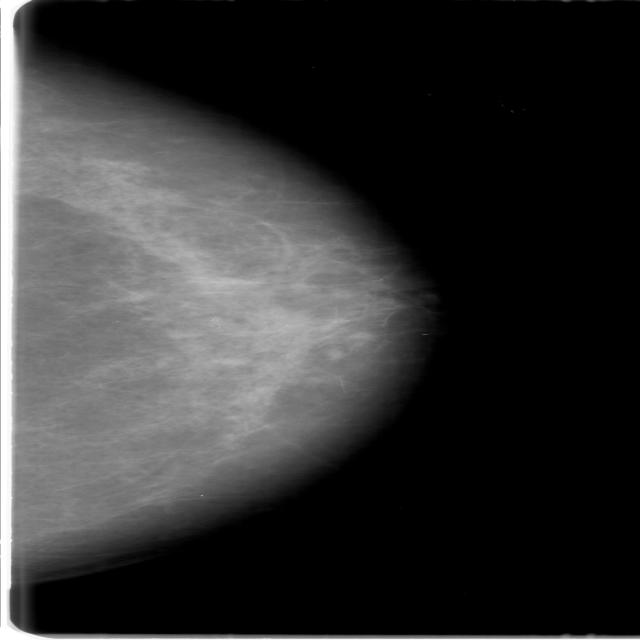normal: (0, 52, 493, 580)
